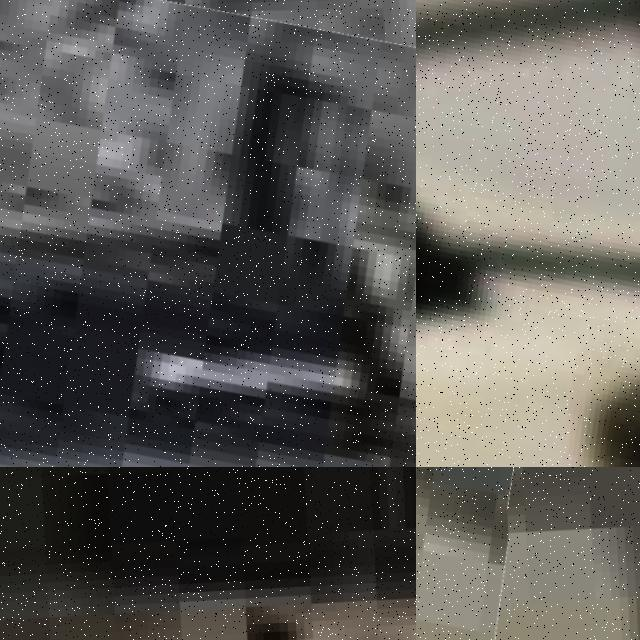drone: (0, 0, 416, 467), (416, 0, 640, 467), (416, 467, 531, 640)
